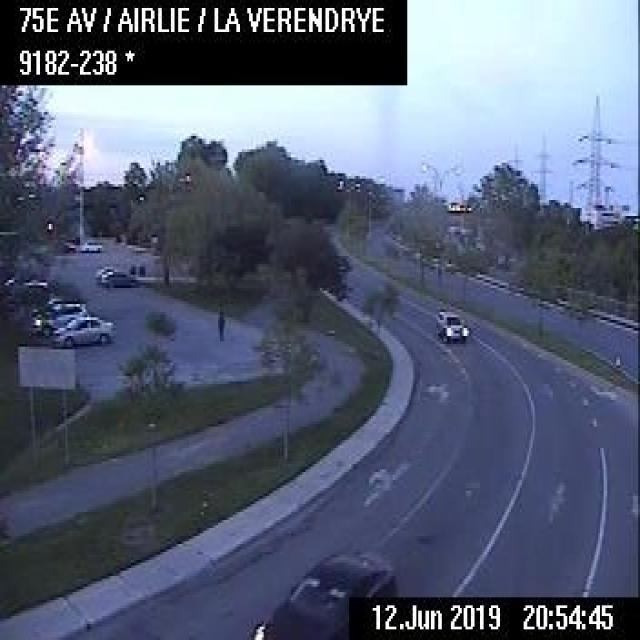pedestrian: (215, 302, 224, 338)
vehicle: (249, 547, 398, 637), (54, 313, 116, 346), (27, 302, 84, 334), (433, 307, 469, 344), (101, 267, 136, 287), (80, 237, 100, 251)
